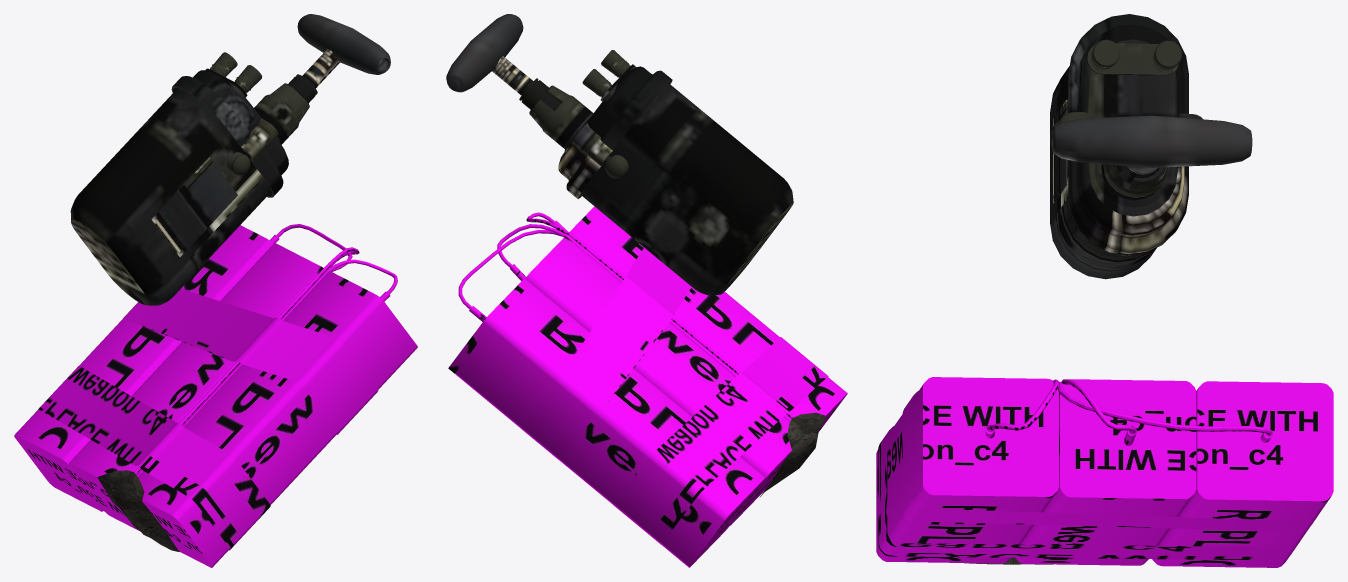
The model's file is viewmodel_satchel_charge.glb.
The picture shows the model from 3 angles, left to right: view 1: azimuth 30°, elevation 25°; view 2: azimuth 150°, elevation 25°; view 3: azimuth 270°, elevation 25°; orthographic projection. The views are drawn at different scales.
Visible parts, largest first — view 1: viewmodel_satchel_charge; view 2: viewmodel_satchel_charge; view 3: viewmodel_satchel_charge.
Boxes of the visible parts, bbox=[...] form: viewmodel_satchel_charge: bbox=[14, 14, 417, 567]; viewmodel_satchel_charge: bbox=[446, 14, 847, 567]; viewmodel_satchel_charge: bbox=[876, 14, 1333, 567].
Bounding box in the file's own units: 0.2349 × 0.3208 × 0.2131.
Materials: 3 (3 with a texture image).
